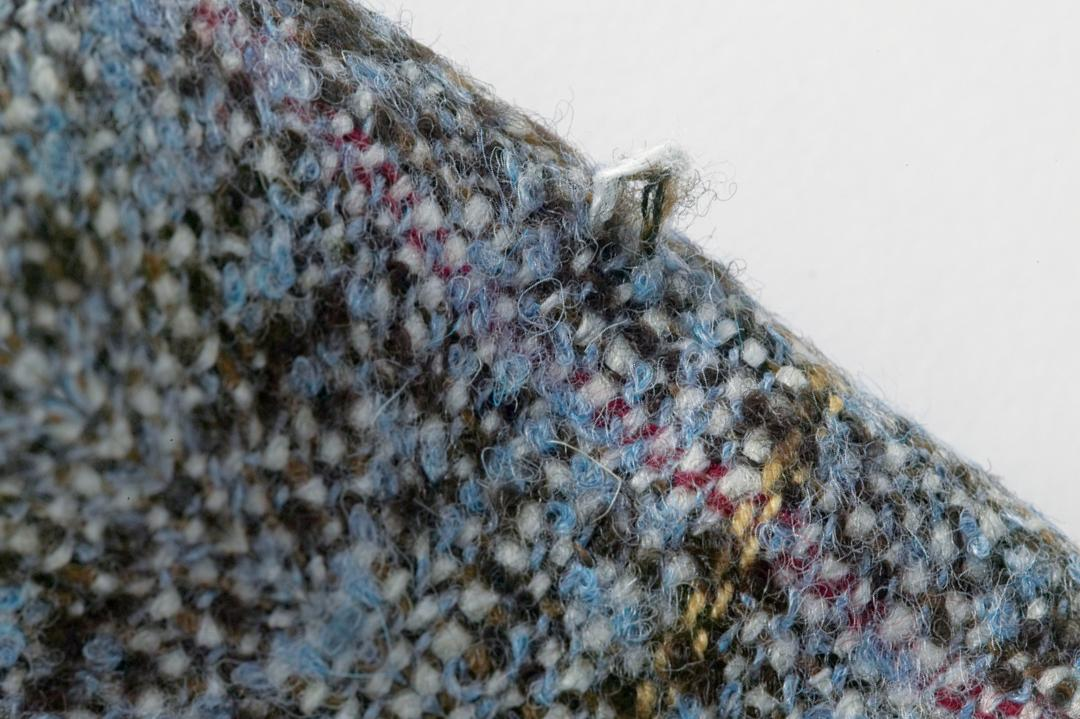snag: (586, 137, 694, 260)
